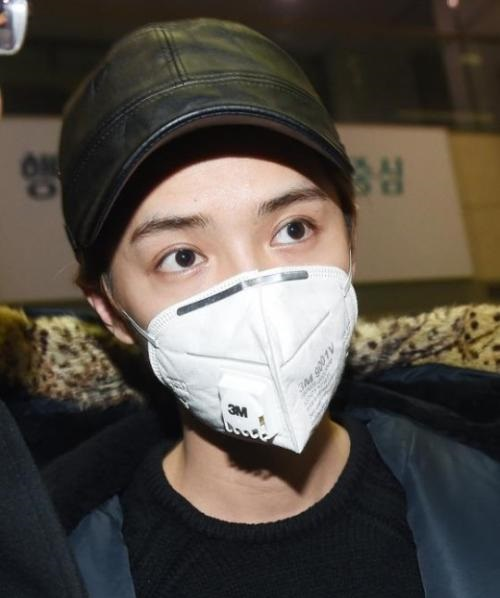face_mask: (121, 132, 353, 451)
